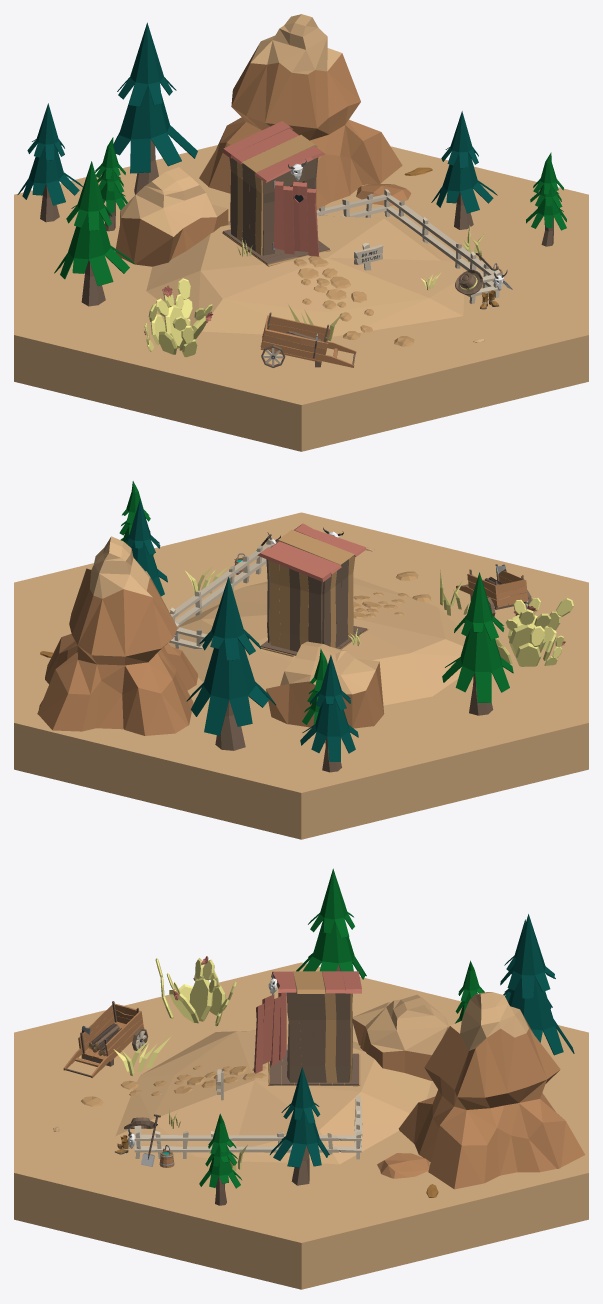
File: Tile_6.fbx
3 views of the same model, one above another, from view 1: azimuth 30°, elevation 25°; view 2: azimuth 150°, elevation 25°; view 3: azimuth 270°, elevation 25° (orthographic).
Visible parts, largest first — view 1: Tile_6_Base, Tile_6, Tile_6_Hill, Tile_6_Building_Toilet, Tile_6_Fence, Tile_6_Cactus, Tile_6_Cart, Tile_6_Track, Tile_6_Hat; view 2: Tile_6_Base, Tile_6, Tile_6_Hill, Tile_6_Building_Toilet, Tile_6_Cactus, Tile_6_Fence, Tile_6_Cart, Tile_6_Track; view 3: Tile_6_Base, Tile_6, Tile_6_Hill, Tile_6_Building_Toilet, Tile_6_Fence, Tile_6_Cart, Tile_6_Cactus, Tile_6_Track.
Boxes of the visible parts, x1,y1,x2,y2 form: Tile_6_Base: (14, 145, 588, 451); Tile_6: (17, 14, 566, 342); Tile_6_Hill: (146, 215, 464, 336); Tile_6_Building_Toilet: (222, 121, 330, 266); Tile_6_Fence: (316, 189, 501, 304); Tile_6_Cactus: (144, 278, 213, 357); Tile_6_Cart: (260, 312, 356, 367); Tile_6_Track: (293, 256, 414, 346); Tile_6_Hat: (455, 269, 483, 294); Tile_6_Base: (14, 512, 588, 839); Tile_6: (37, 481, 513, 772); Tile_6_Hill: (168, 577, 465, 707); Tile_6_Building_Toilet: (257, 523, 368, 656); Tile_6_Cactus: (495, 598, 573, 666); Tile_6_Fence: (169, 539, 274, 648); Tile_6_Cart: (456, 564, 531, 616); Tile_6_Track: (353, 571, 431, 618); Tile_6_Base: (14, 962, 588, 1289); Tile_6: (53, 868, 584, 1205); Tile_6_Hill: (115, 1029, 431, 1164); Tile_6_Building_Toilet: (254, 971, 361, 1086); Tile_6_Fence: (134, 1095, 362, 1159); Tile_6_Cart: (63, 1001, 147, 1078); Tile_6_Cactus: (155, 956, 236, 1026); Tile_6_Track: (81, 1065, 267, 1106).
Bounding box in the file's own units: 2318 × 2007 × 833.
